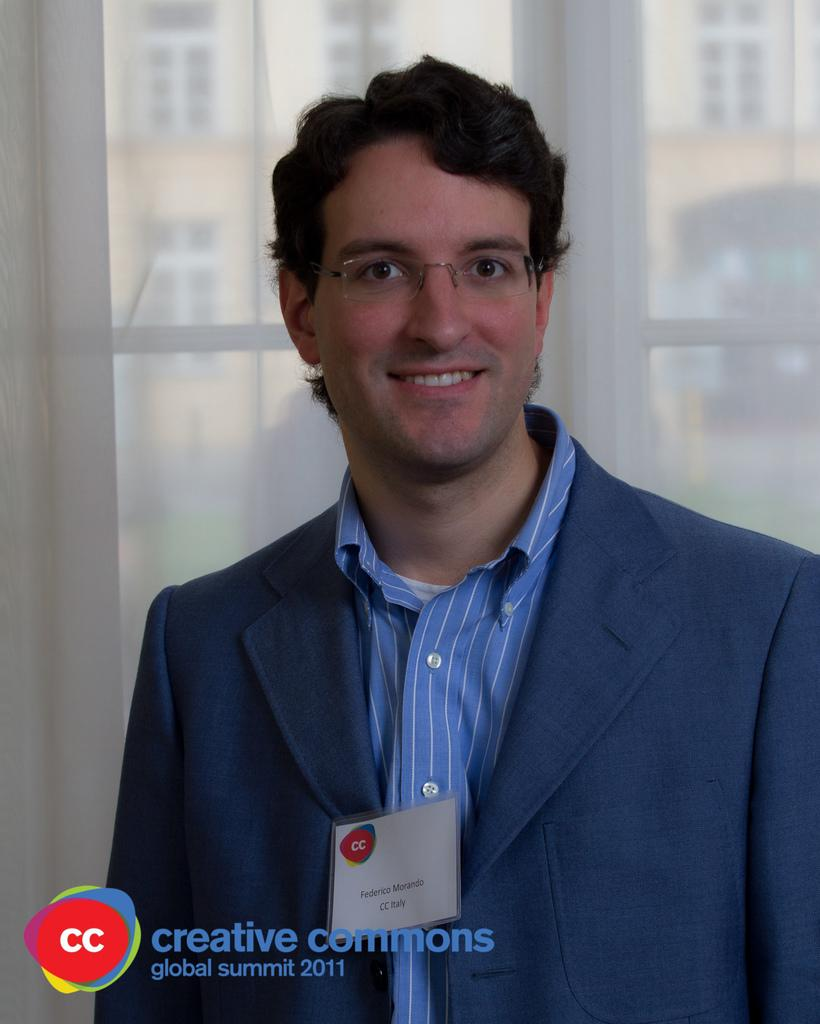no_helmet: (280, 48, 562, 338)
none: (124, 379, 754, 1024)
